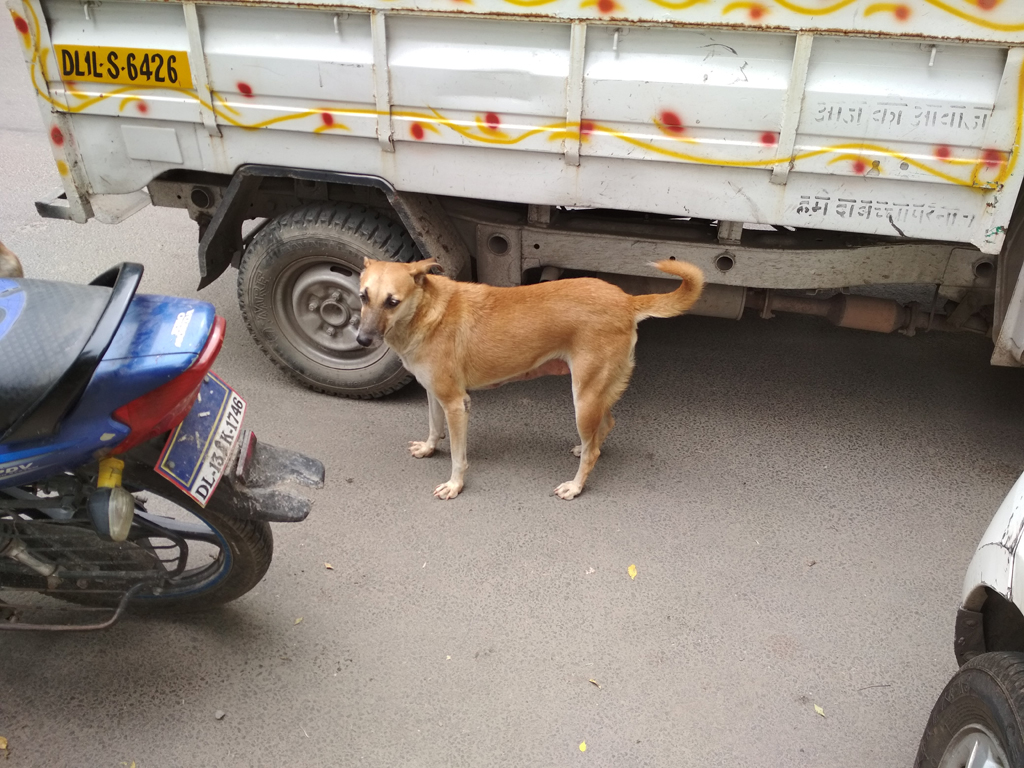dog: (357, 255, 704, 501)
